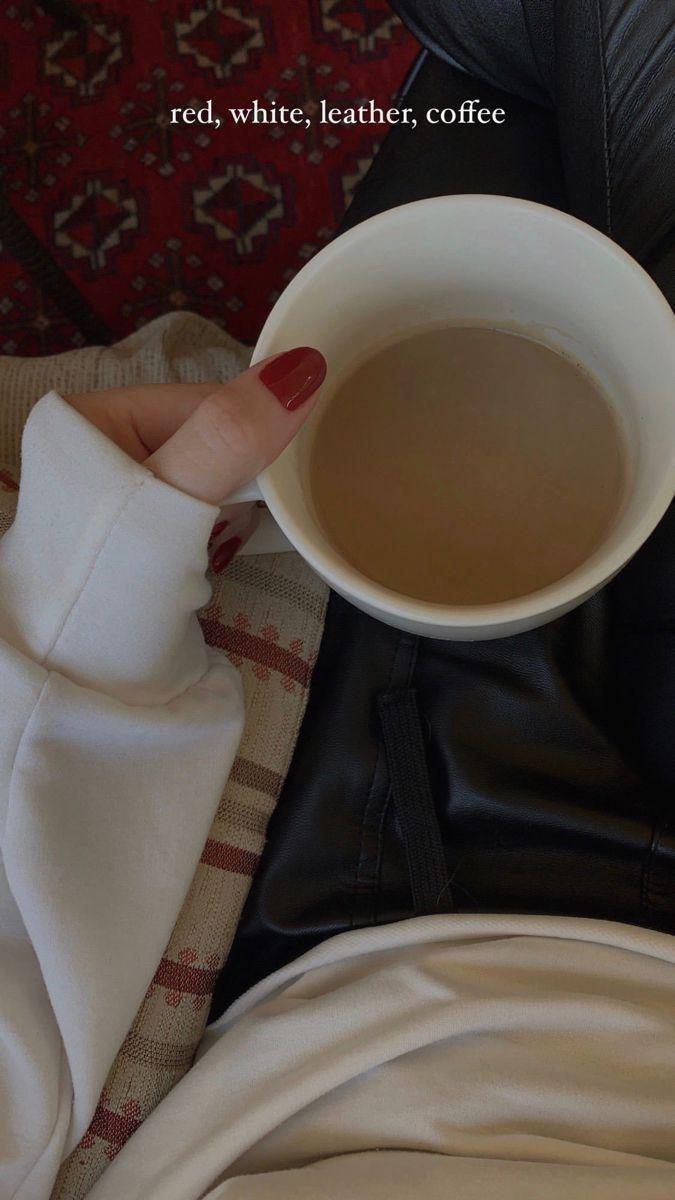cup-handle: (192, 191, 674, 653)
